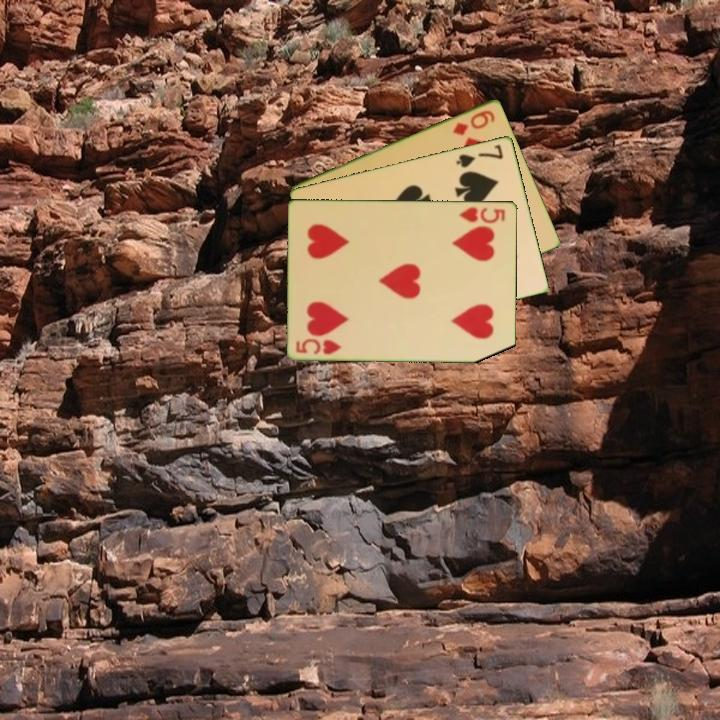5h: (456, 203, 508, 226), (293, 335, 344, 357)
6d: (449, 106, 498, 138)
7s: (453, 141, 506, 170)
